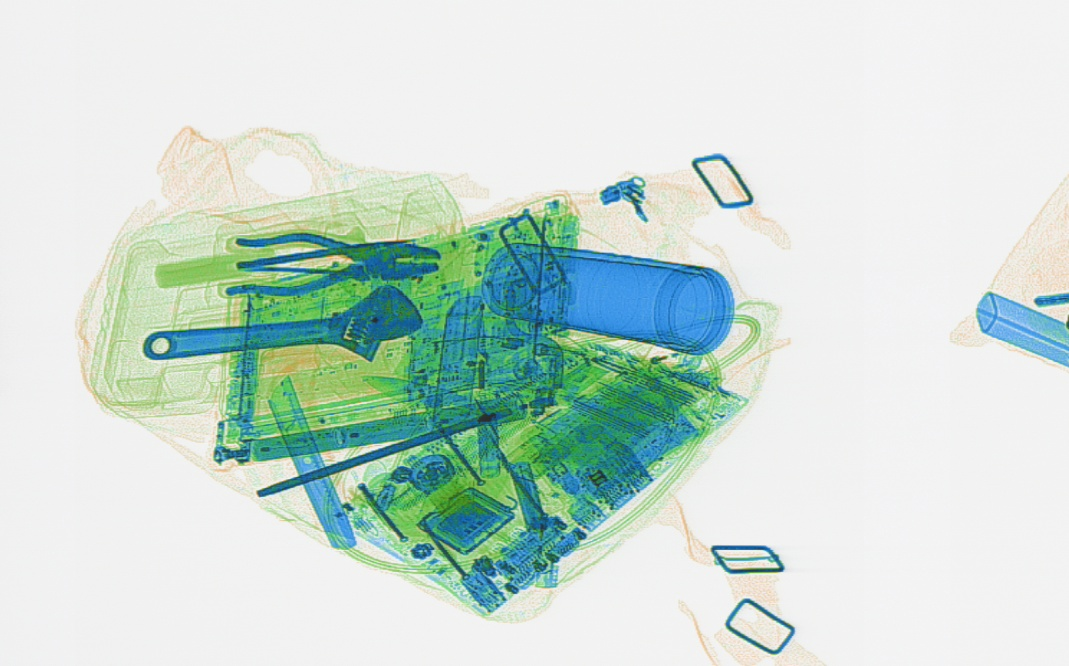knife: (266, 376, 354, 549)
